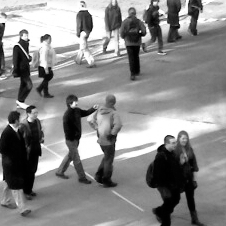person: (54, 94, 94, 185), (87, 95, 123, 188), (1, 110, 31, 216), (177, 129, 203, 226), (154, 134, 179, 226), (121, 4, 147, 82), (24, 105, 45, 199), (11, 27, 33, 111), (73, 1, 95, 69), (34, 31, 55, 98), (143, 1, 168, 55), (102, 1, 121, 57), (164, 1, 185, 42), (1, 12, 9, 85), (188, 1, 204, 36)
